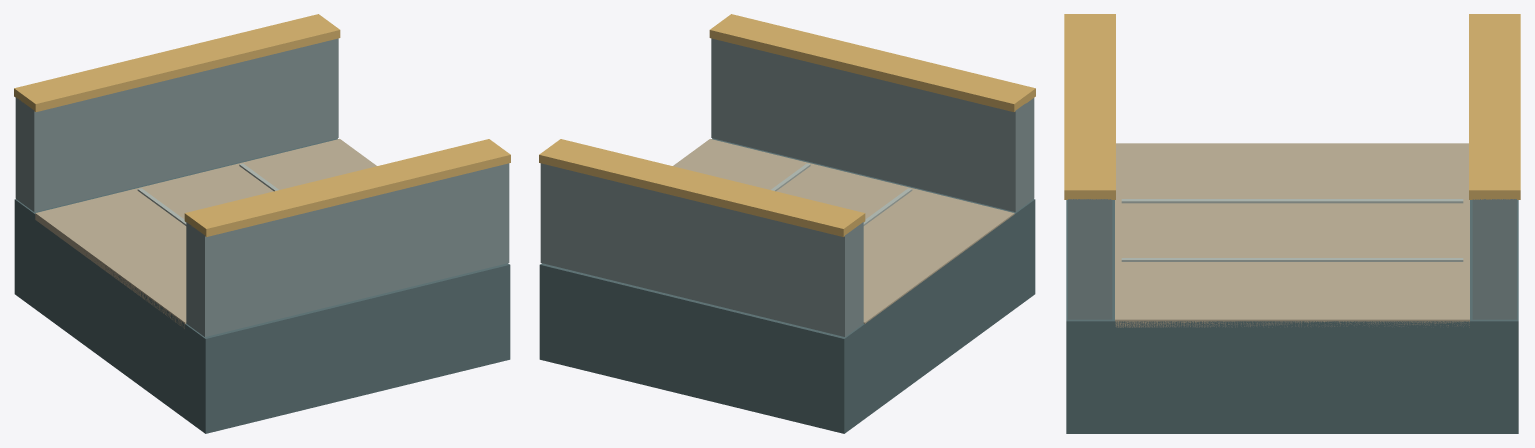
File: SM_R02A_Entry_A.fbx
The picture shows the model from 3 angles, left to right: view 1: azimuth 30°, elevation 25°; view 2: azimuth 150°, elevation 25°; view 3: azimuth 270°, elevation 25°; orthographic projection. The views are drawn at different scales.
Parts seen in each view (by area): view 1: SM_R02A_Entry_A; view 2: SM_R02A_Entry_A; view 3: SM_R02A_Entry_A.
Part boxes in pixels (bbox=[...]): SM_R02A_Entry_A: bbox=[14, 14, 510, 433]; SM_R02A_Entry_A: bbox=[539, 14, 1035, 433]; SM_R02A_Entry_A: bbox=[1064, 14, 1520, 433].
Bounding box in the file's own units: 4.7 × 5.14 × 3.03.
